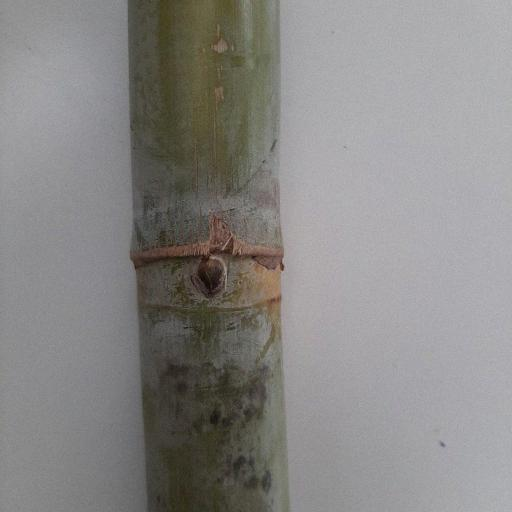Bud: (194, 258, 227, 295)
